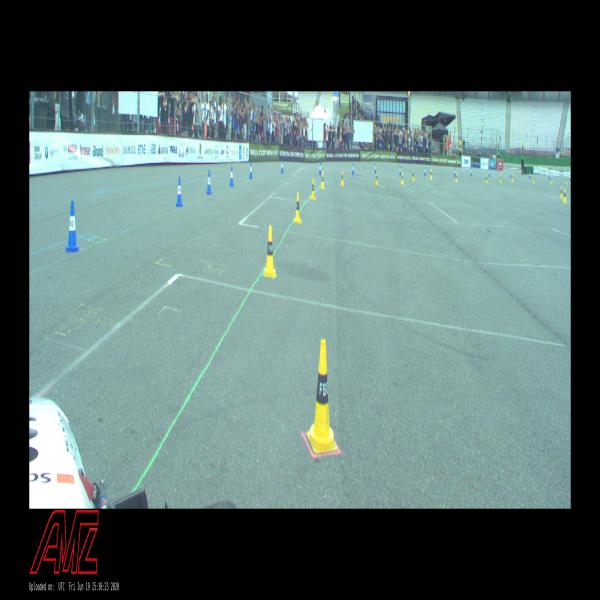blue_cone: (64, 200, 81, 252), (176, 176, 183, 206), (206, 170, 212, 194), (229, 166, 234, 186), (249, 162, 253, 178), (280, 159, 284, 173), (318, 162, 321, 175), (374, 163, 377, 174), (453, 168, 456, 177), (352, 163, 354, 175), (470, 168, 473, 176), (424, 166, 426, 176), (399, 166, 401, 176), (488, 169, 490, 176), (510, 171, 512, 177)
yellow_cone: (307, 339, 337, 453), (264, 226, 276, 277), (294, 192, 301, 223), (310, 178, 316, 200), (320, 171, 324, 188), (340, 170, 344, 186), (563, 188, 567, 203), (401, 171, 404, 184), (375, 173, 378, 186), (560, 186, 563, 198), (499, 174, 502, 183), (485, 175, 488, 183), (511, 174, 514, 182), (412, 170, 414, 181), (455, 172, 457, 182), (430, 169, 432, 179)
